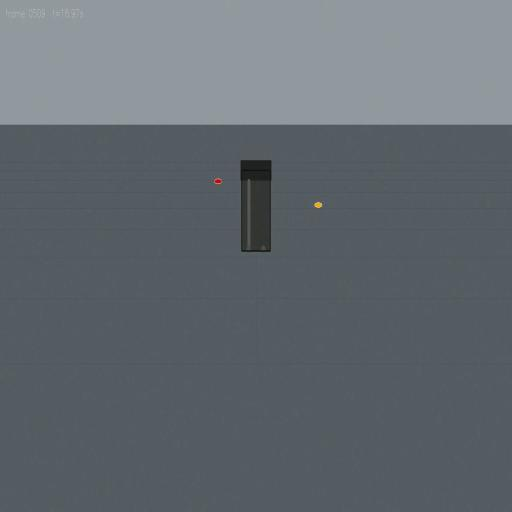bin: (240, 160, 272, 253)
